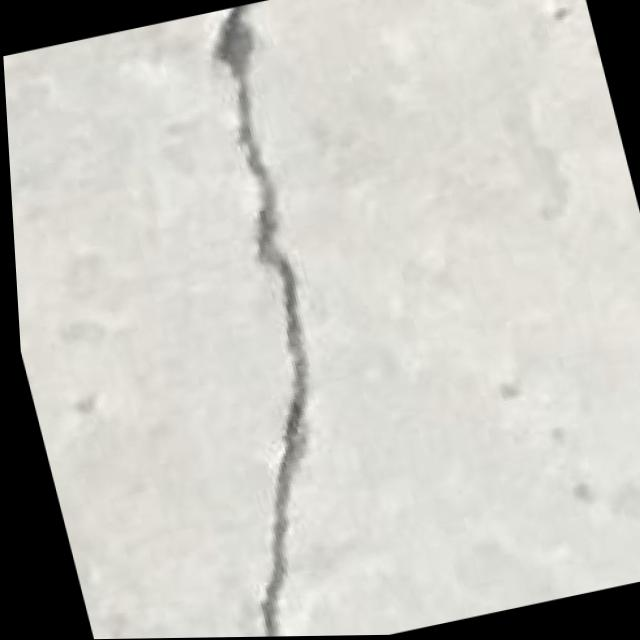Crack: (93, 3, 405, 639)
